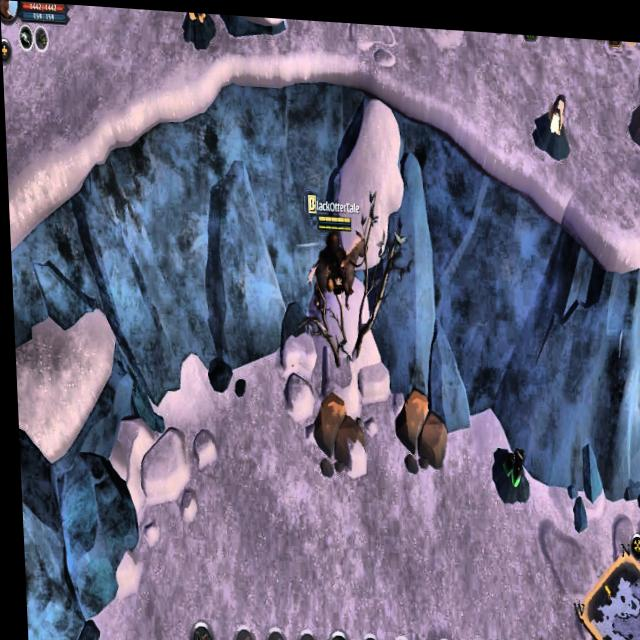copperore: (528, 80, 574, 157), (180, 9, 221, 47)
limestone: (388, 380, 446, 472), (307, 384, 364, 473), (629, 77, 640, 156)
tinore: (482, 433, 527, 498), (633, 459, 640, 528)
